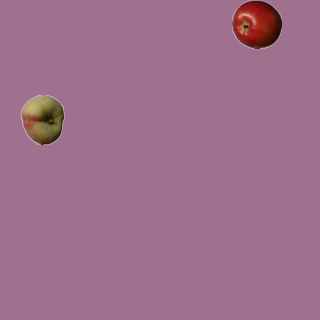Apple Braeburn: (231, 0, 281, 49)
Peach Flat: (17, 94, 67, 144)
